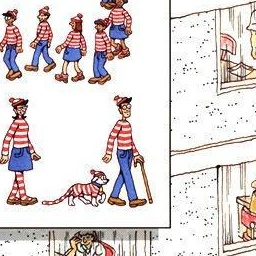waldo: (110, 93, 147, 206), (110, 93, 146, 163), (113, 94, 135, 123)
